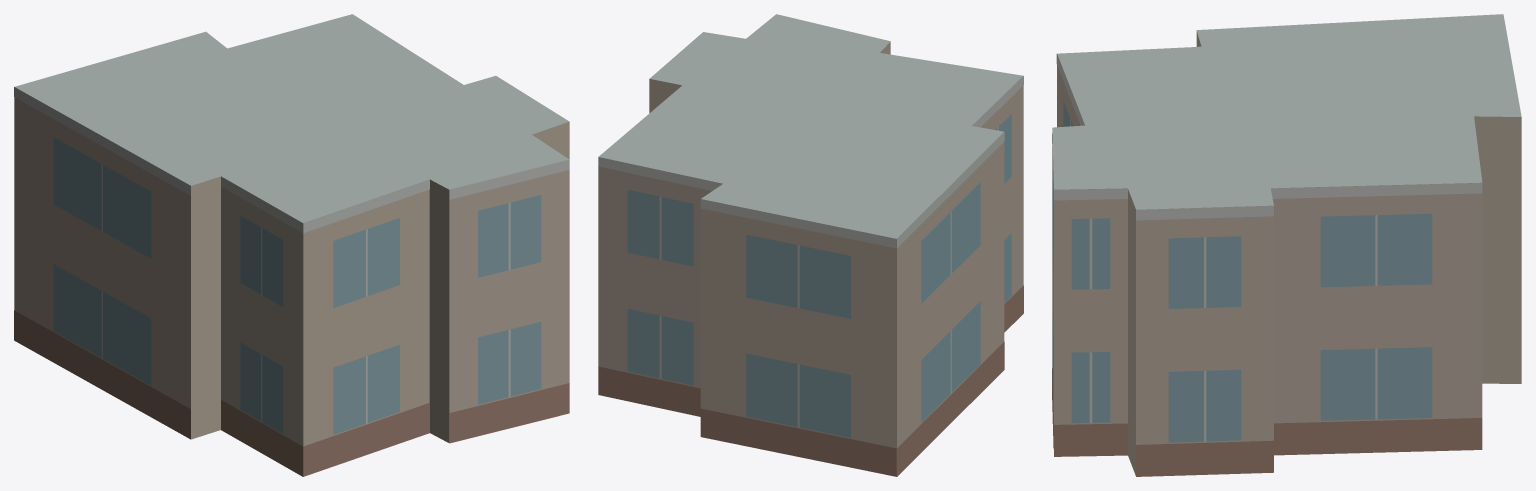
The model's file is survey-upis-32940632.glb.
3 renders of one model, left to right at view 1: azimuth 30°, elevation 25°; view 2: azimuth 150°, elevation 25°; view 3: azimuth 270°, elevation 25°, orthographic. The views are drawn at different scales.
Parts seen in each view (by area): view 1: survey-upis-32940632.tmp; view 2: survey-upis-32940632.tmp; view 3: survey-upis-32940632.tmp.
Boxes of the visible parts, box(x1,y1,x2,y2) form: survey-upis-32940632.tmp: box(14, 14, 569, 476); survey-upis-32940632.tmp: box(598, 14, 1023, 476); survey-upis-32940632.tmp: box(1052, 14, 1521, 476).
Size of the model in its own units: 9.6 by 6.1 by 9.73.
